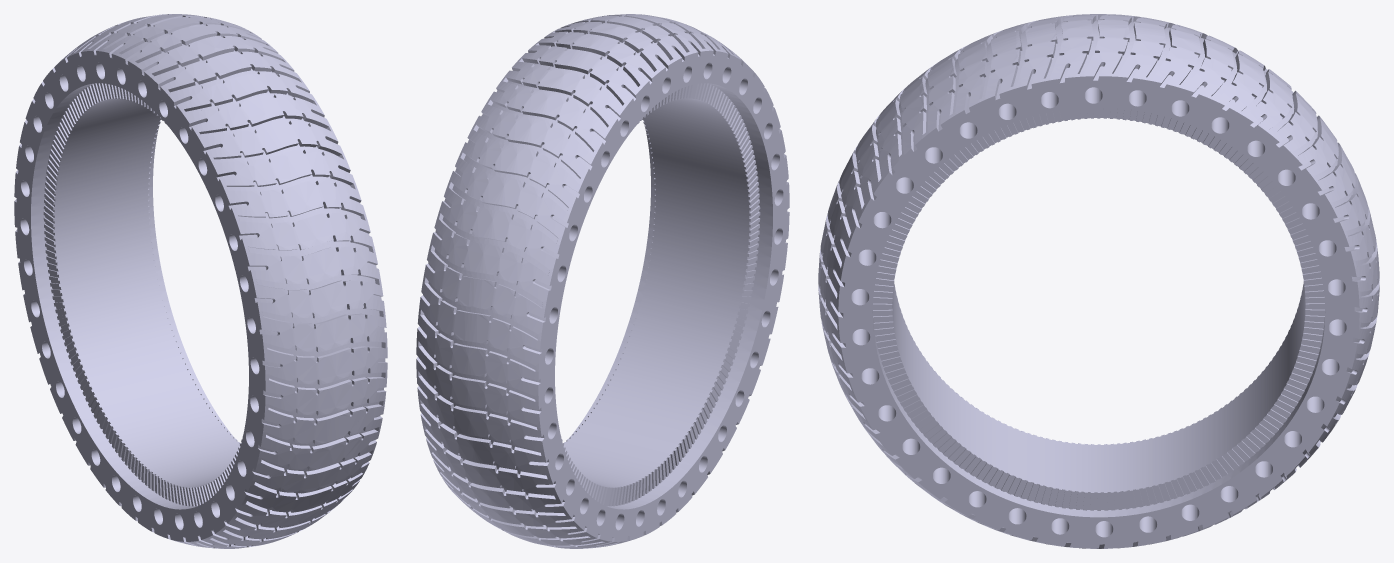
Rendered from botwheel_tyre001.dae.
3 renders of one model, left to right at view 1: azimuth 30°, elevation 25°; view 2: azimuth 150°, elevation 25°; view 3: azimuth 270°, elevation 25°, orthographic. The views are drawn at different scales.
Parts seen in each view (by area): view 1: node0; view 2: node0; view 3: node0.
Boxes of the visible parts, x1=… form: node0: x1=14, y1=14, x2=387, y2=548; node0: x1=416, y1=14, x2=789, y2=548; node0: x1=818, y1=14, x2=1379, y2=548.
Bounding box in the file's own units: 0.0446 × 0.1713 × 0.1713.
